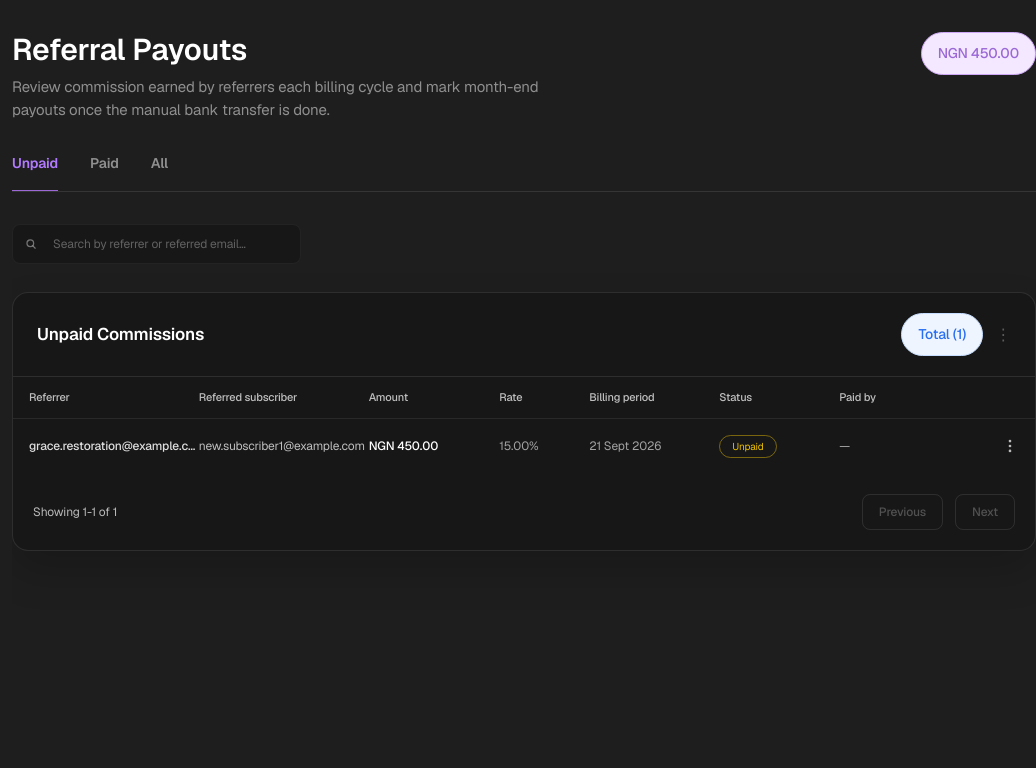
Test: ReferralCommissionsPage › switches tabs on the client
Click the button "Paid": (104, 172) [90,153,119,191]
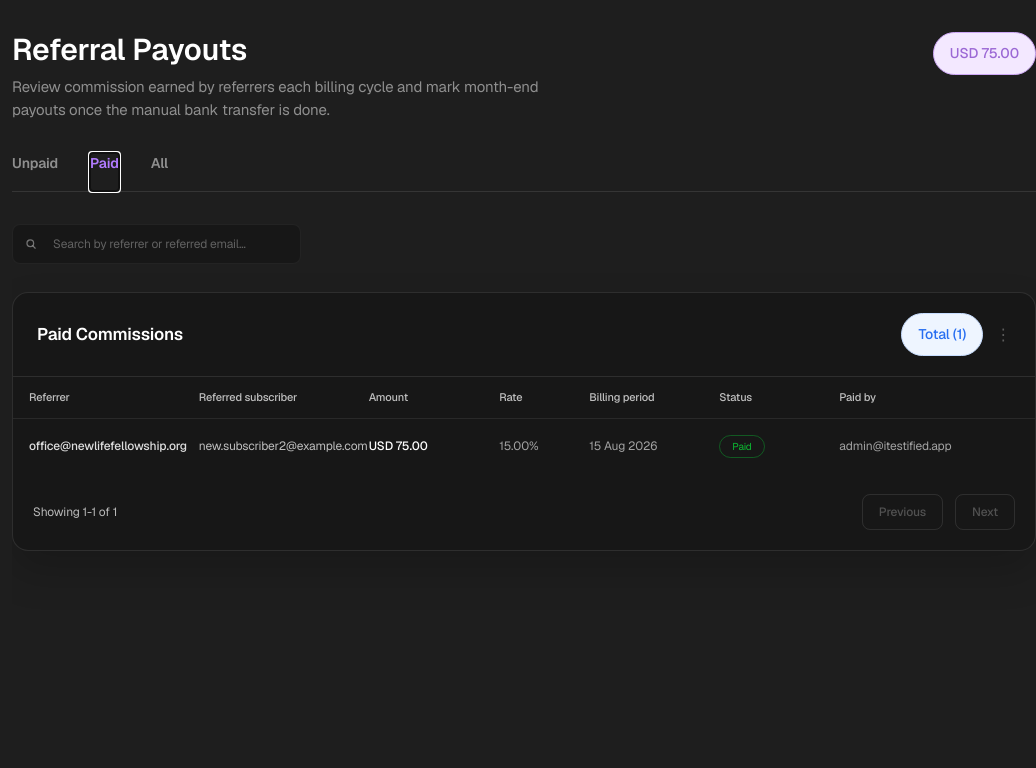
Expected: the heading "Paid Commissions" is shown, [37,322,183,347]
Now the text "office@newlifefellowship.org" is shown, box [29,437,199,455]
